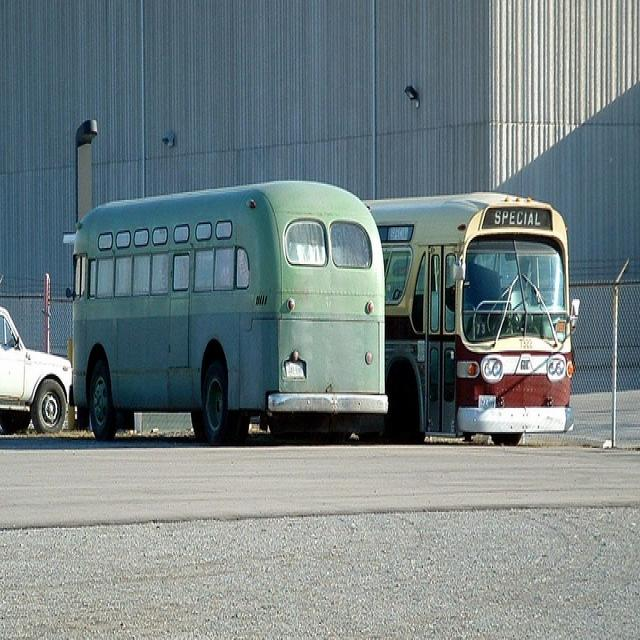bus: (68, 176, 384, 438), (361, 189, 580, 445)
truck: (0, 299, 75, 446)
